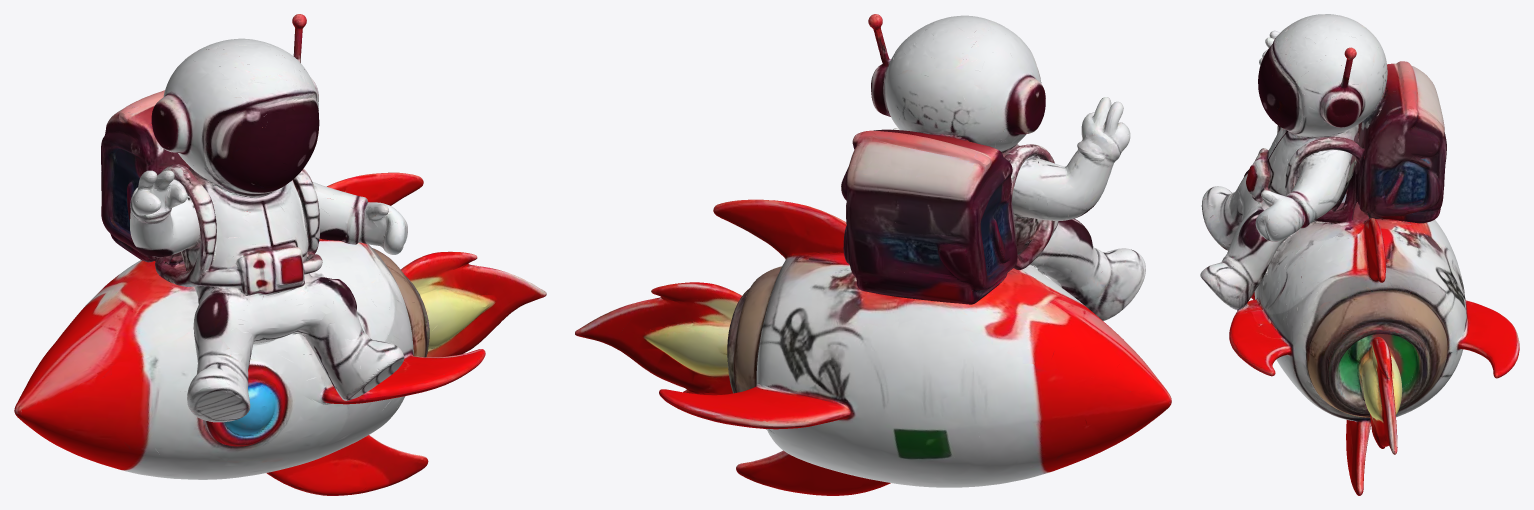
File: astronaut.glb
The picture shows the model from 3 angles, left to right: view 1: azimuth 30°, elevation 25°; view 2: azimuth 150°, elevation 25°; view 3: azimuth 270°, elevation 25°; orthographic projection. The views are drawn at different scales.
Visible parts, largest first — view 1: model; view 2: model; view 3: model.
Part boxes in pixels (<box>): model: <box>14,14,546,495</box>; model: <box>575,14,1171,495</box>; model: <box>1200,14,1519,495</box>.
Size of the model in its own units: 1.99 by 1.67 by 1.2.
1 material, 1 textured.
